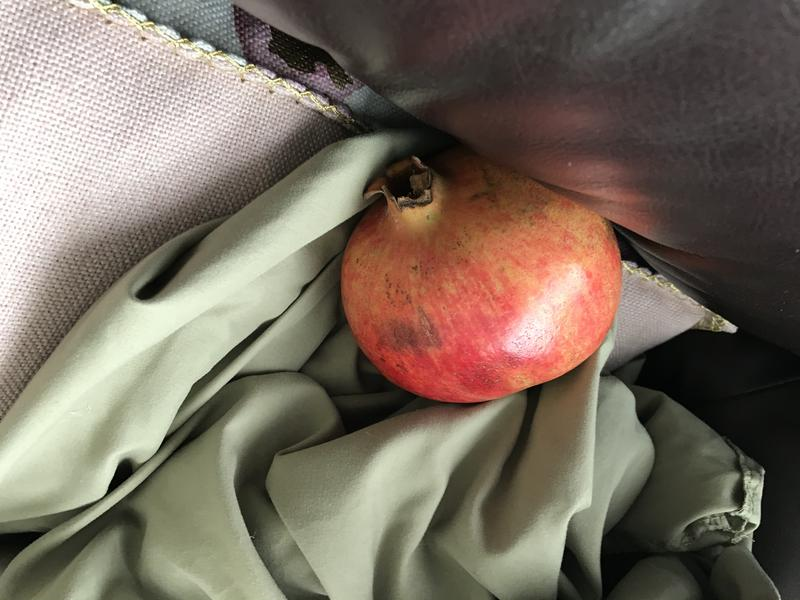pomegranate: (323, 136, 629, 413)
